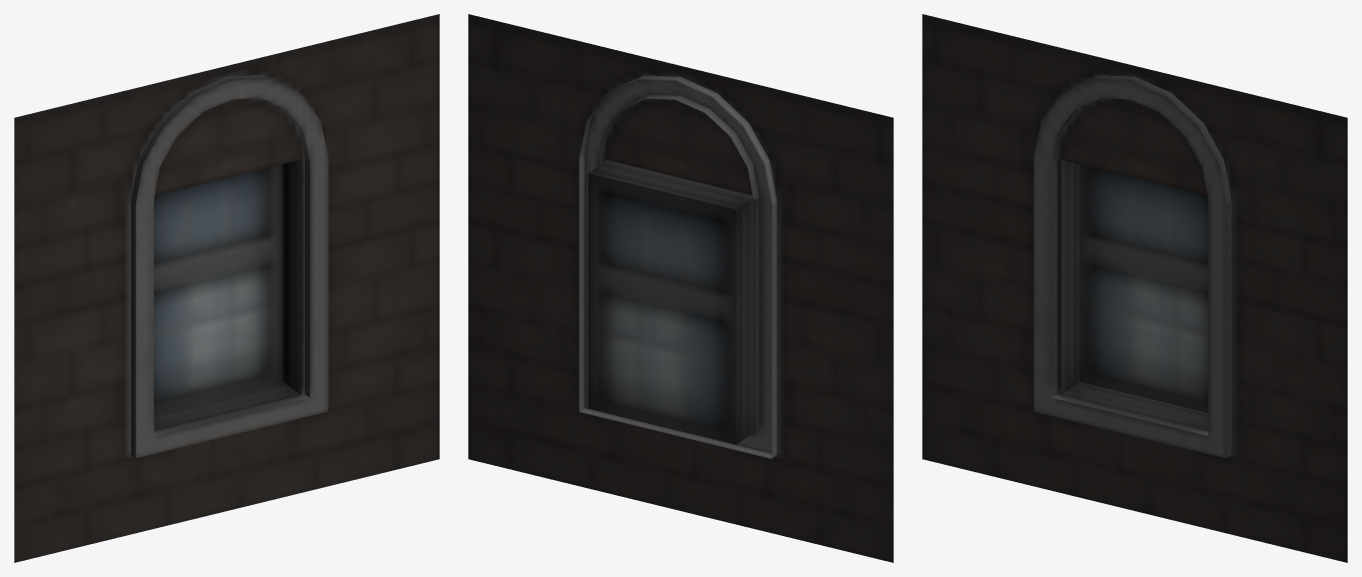
Rendered from B11_Window.FBX.
3 views of the same model, side by side, from view 1: azimuth 30°, elevation 25°; view 2: azimuth 150°, elevation 25°; view 3: azimuth 330°, elevation 25° (orthographic).
Parts seen in each view (by area): view 1: B11_Window; view 2: B11_Window; view 3: B11_Window.
Part boxes in pixels (<box>): B11_Window: <box>14,14,439,562</box>; B11_Window: <box>468,14,893,562</box>; B11_Window: <box>922,14,1347,562</box>.
Size of the model in its own units: 4 by 4 by 0.3784.
